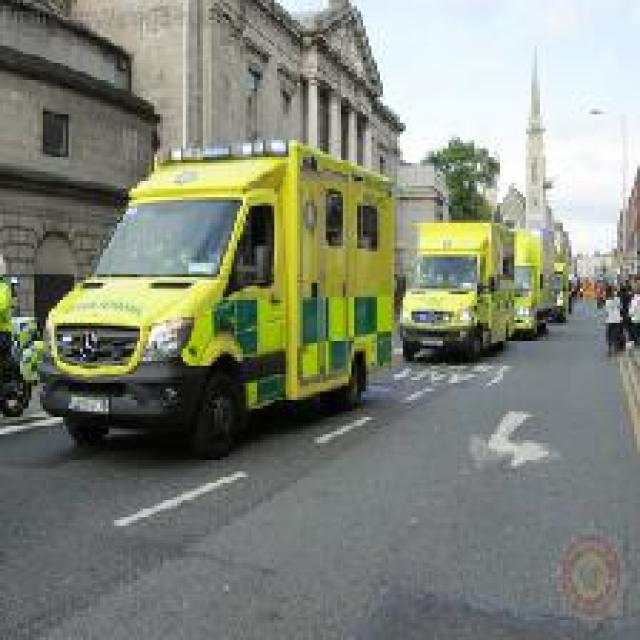Ambulance: (34, 134, 397, 457)
